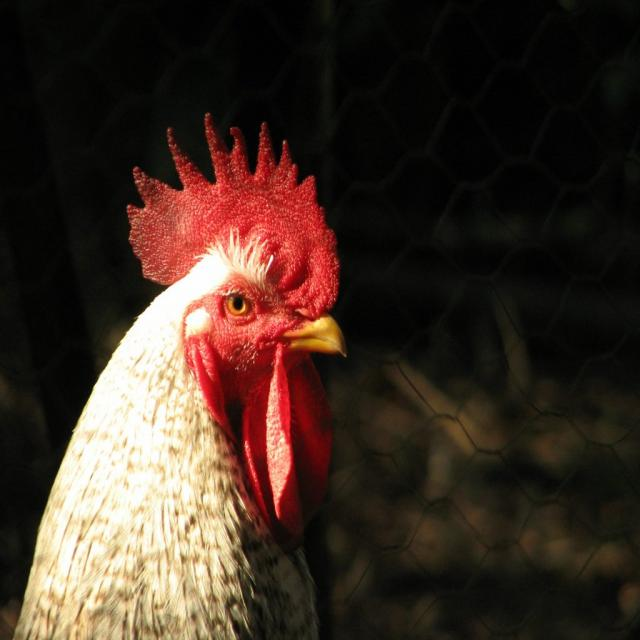Chicken: (50, 133, 348, 640)
